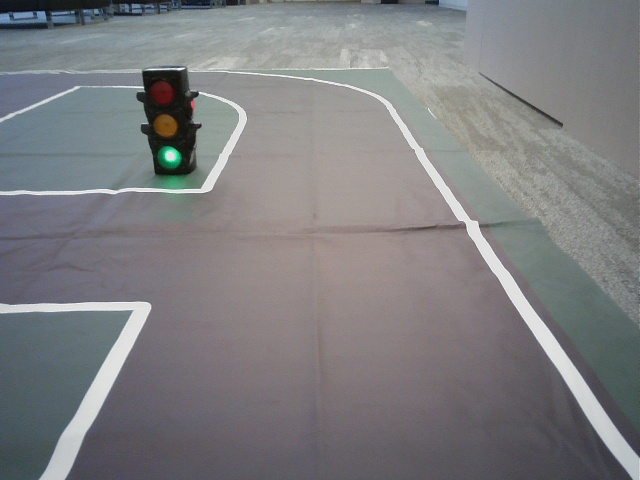green: (142, 73, 184, 170)
